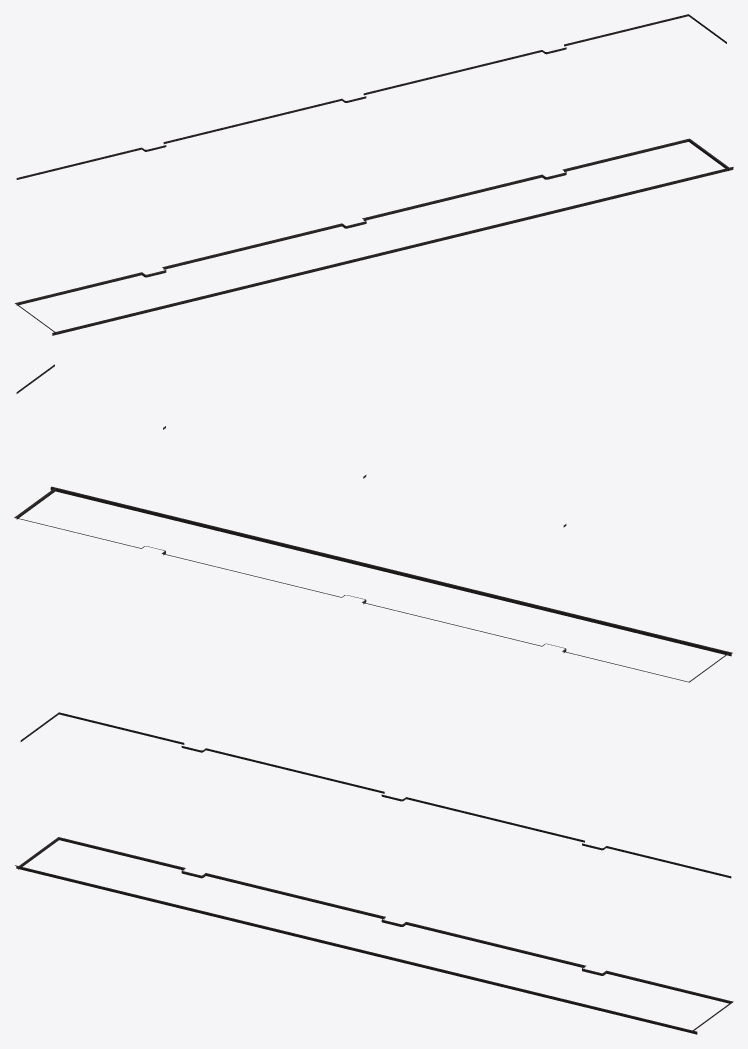
Rendered from ArcheryField_Molding.fbx.
The picture shows the model from 3 angles, top to bottom: view 1: azimuth 30°, elevation 25°; view 2: azimuth 150°, elevation 25°; view 3: azimuth 330°, elevation 25°; orthographic projection.
Parts seen in each view (by area): view 1: ArcheryField_Molding; view 2: ArcheryField_Molding; view 3: ArcheryField_Molding.
Boxes of the visible parts, x1=… form: ArcheryField_Molding: x1=15, y1=14, x2=733, y2=335; ArcheryField_Molding: x1=14, y1=364, x2=732, y2=682; ArcheryField_Molding: x1=15, y1=712, x2=733, y2=1034.
Bounding box in the file's own units: 1964 × 353 × 207.
